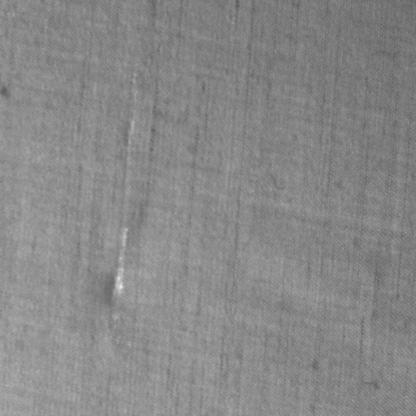thread error: (103, 61, 140, 351)
